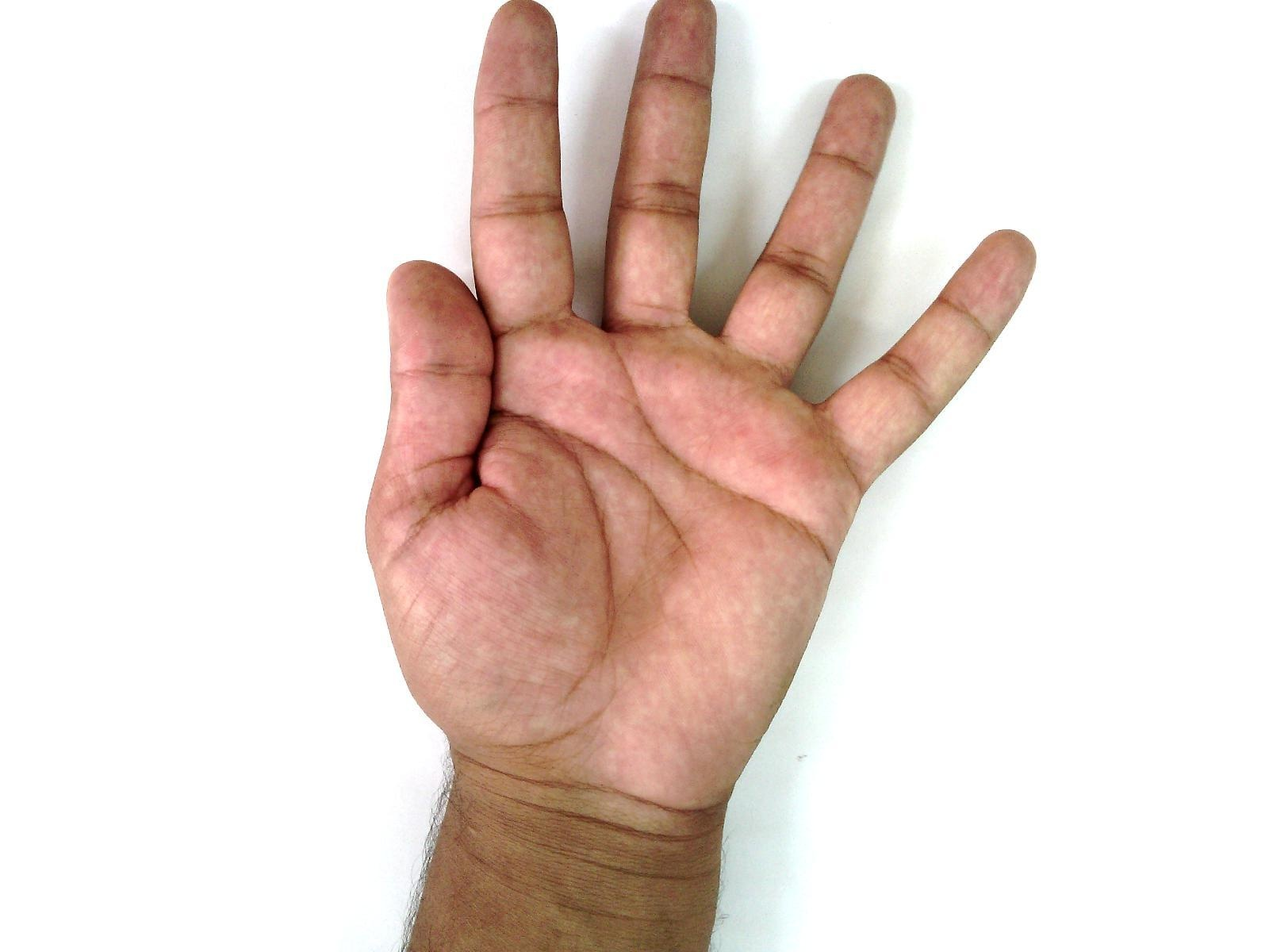open_palm: (362, 4, 1040, 814)
